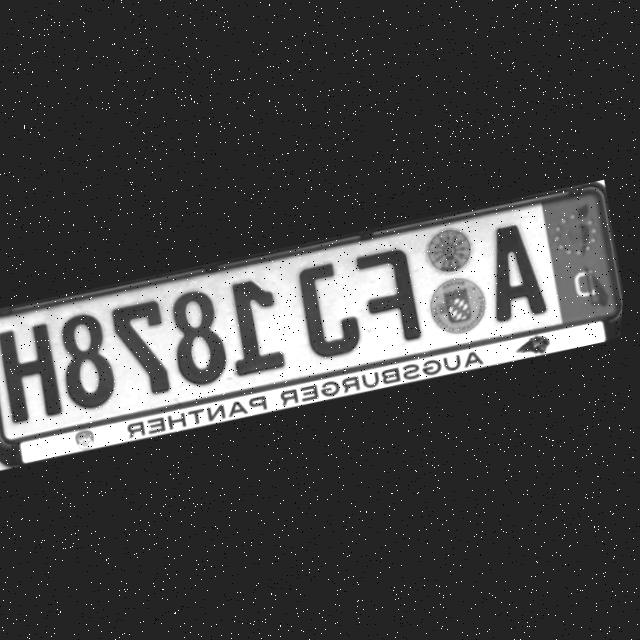license-plates: (0, 189, 620, 442)
